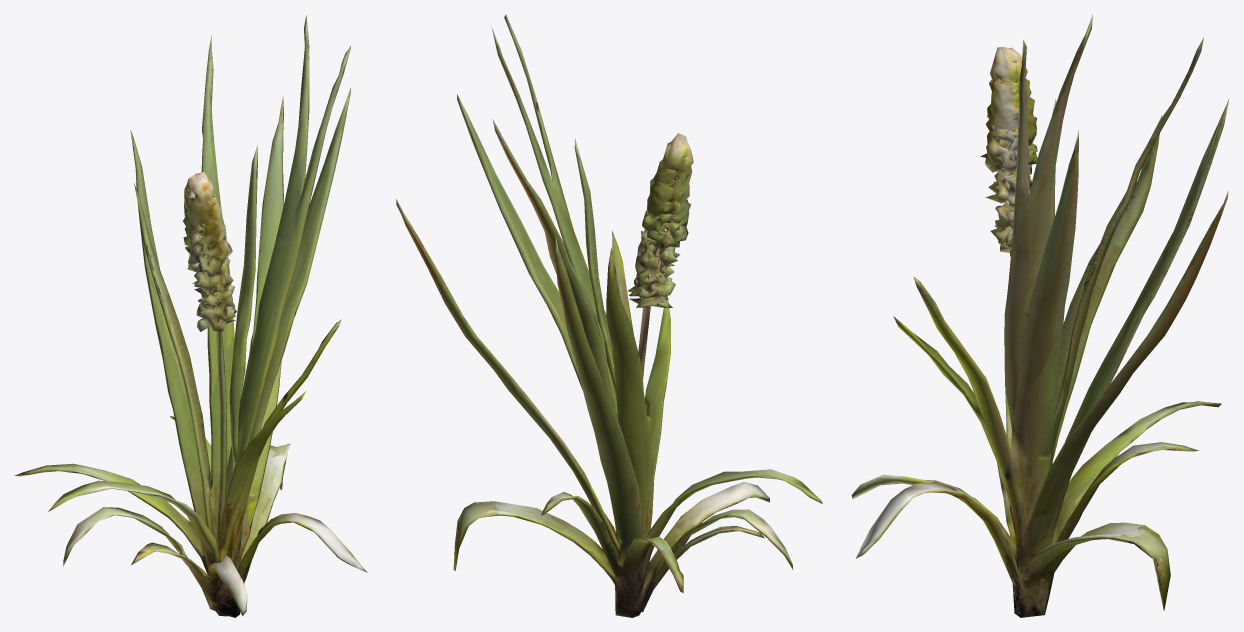
The model's file is Cattail_NewBloom.glb.
3 views of the same model, side by side, from view 1: azimuth 30°, elevation 25°; view 2: azimuth 150°, elevation 25°; view 3: azimuth 270°, elevation 25° (orthographic). The views are drawn at different scales.
Parts seen in each view (by area): view 1: Mesh1; view 2: Mesh1; view 3: Mesh1.
Part boxes in pixels (x1,y1,x2,y2): Mesh1: (14,15,367,617); Mesh1: (396,14,822,617); Mesh1: (851,14,1229,617).
Size of the model in its own units: 0.6186 by 1.01 by 0.5218.
Materials: 1 (1 with a texture image).
